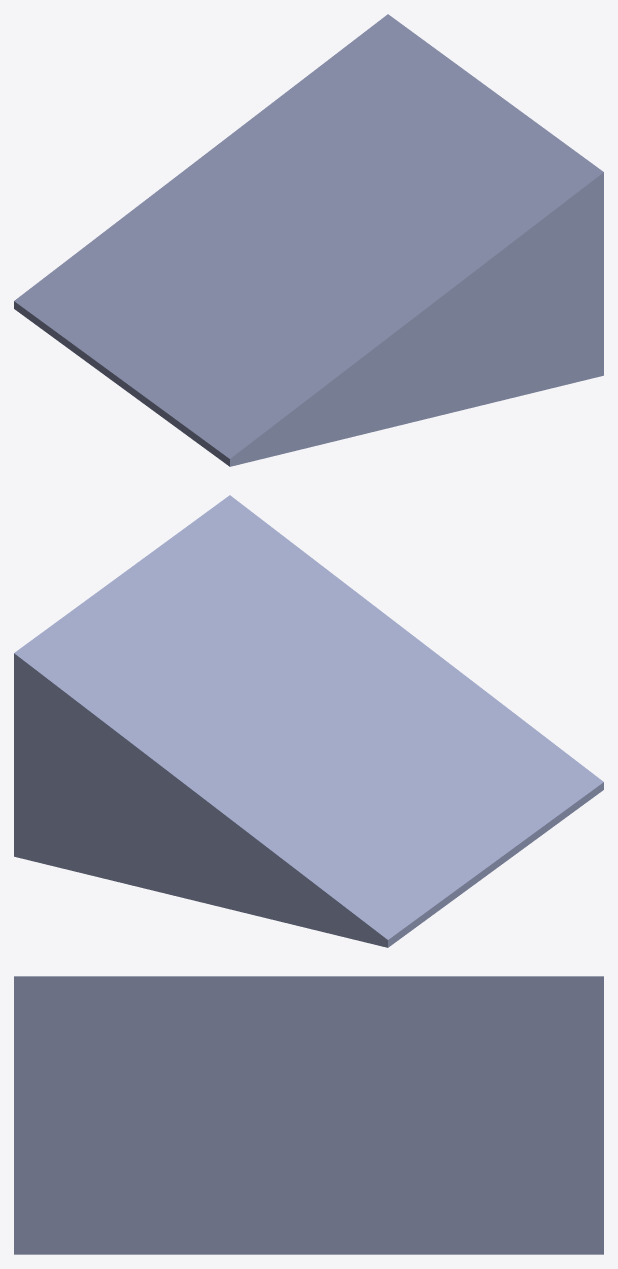
The model's file is tile-slantHigh.glb.
3 renders of one model, top to bottom at view 1: azimuth 30°, elevation 25°; view 2: azimuth 150°, elevation 25°; view 3: azimuth 270°, elevation 25°, orthographic. The views are drawn at different scales.
Visible parts, largest first — view 1: tile-slantHigh; view 2: tile-slantHigh; view 3: tile-slantHigh.
Part boxes in pixels (x1,y1,x2,y2): tile-slantHigh: [14, 14, 603, 466]; tile-slantHigh: [14, 495, 603, 947]; tile-slantHigh: [14, 976, 603, 1254].
Bounding box in the file's own units: 1 × 0.52 × 1.
1 material, 1 textured.
